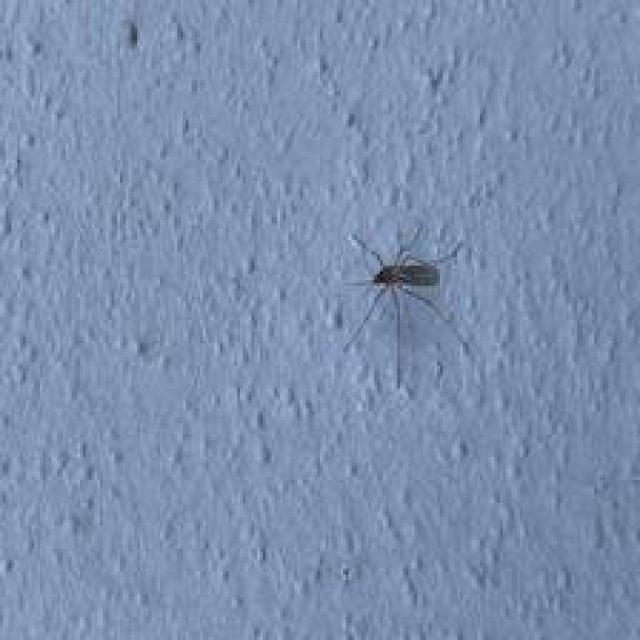Culex: (338, 223, 473, 391)
